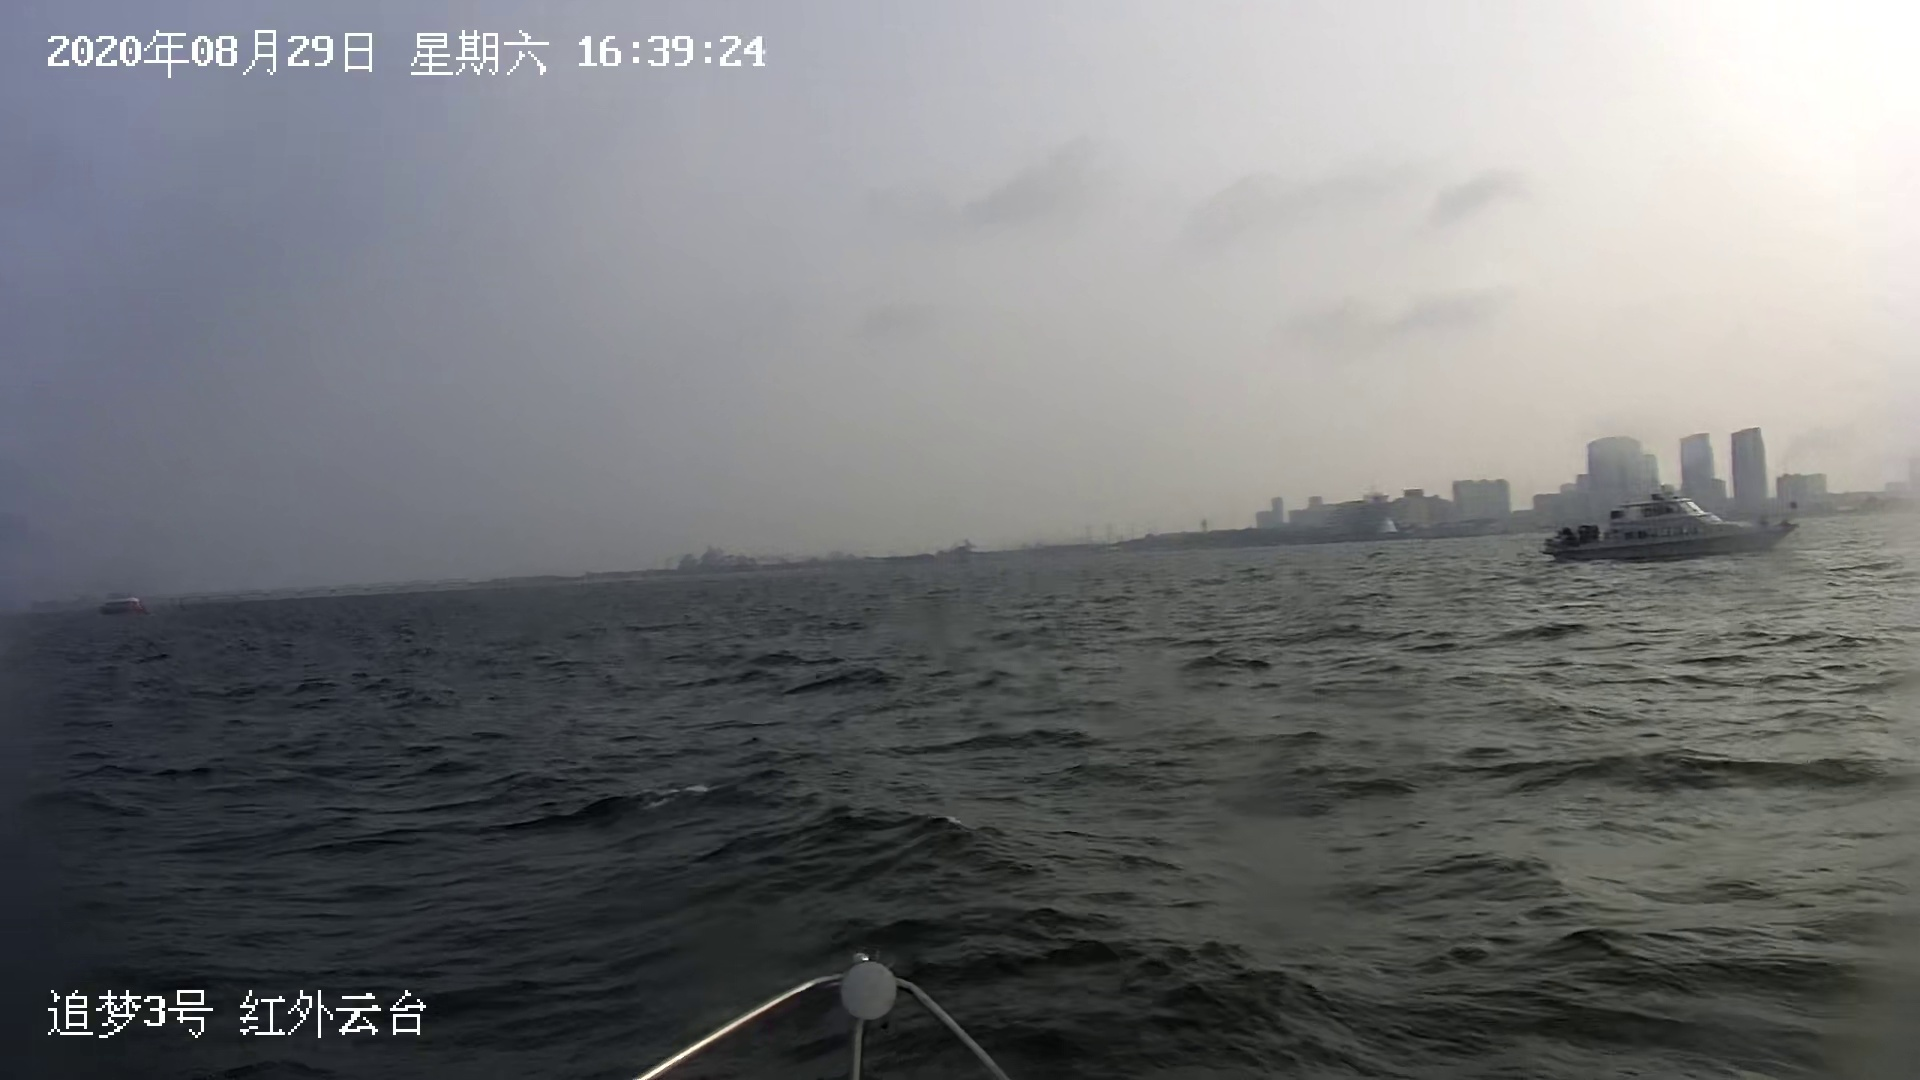barrier: (1544, 492, 1805, 549), (96, 589, 148, 616)
coast: (144, 425, 1917, 603)
